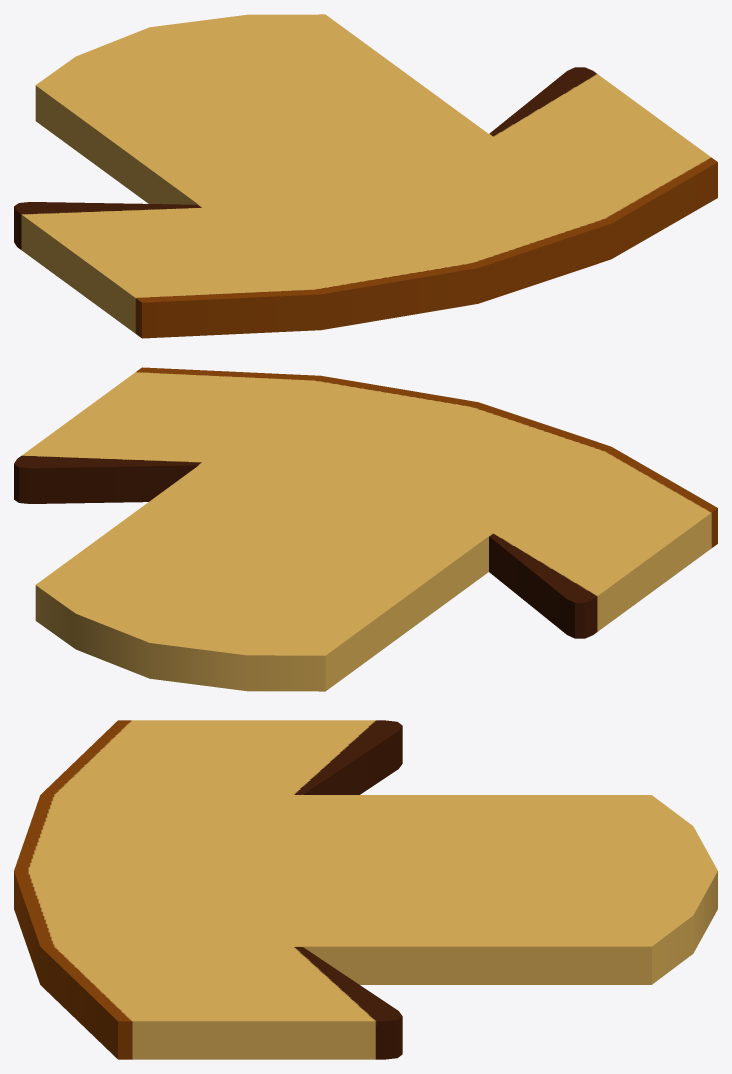
File: mushroom bit.fbx
3 views of the same model, one above another, from view 1: azimuth 30°, elevation 25°; view 2: azimuth 150°, elevation 25°; view 3: azimuth 270°, elevation 25° (orthographic). The views are drawn at different scales.
Parts seen in each view (by area): view 1: Plane; view 2: Plane; view 3: Plane.
Boxes of the visible parts, x1,y1,x2,y2 form: Plane: (14, 14, 717, 338); Plane: (14, 367, 717, 691); Plane: (14, 720, 717, 1059).
Bounding box in the file's own units: 199 × 11.79 × 196.
